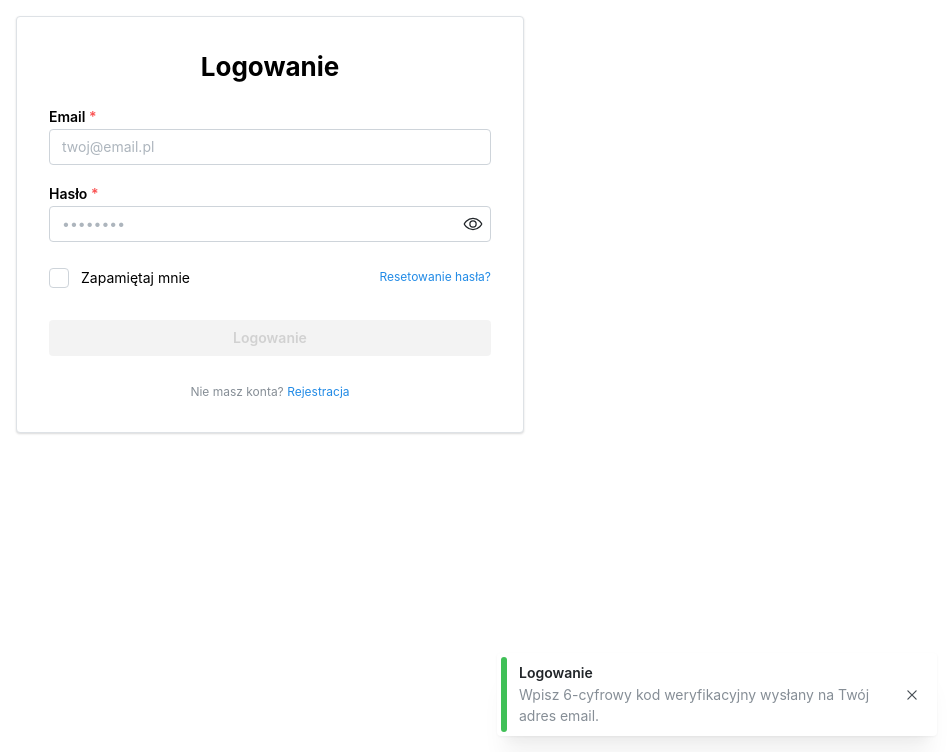
it: authentication UI › shows field-level API validation errors on login
In the field labelled "Email *": (270, 147) 49,129 -> 491,165, type "blocked@example.com"
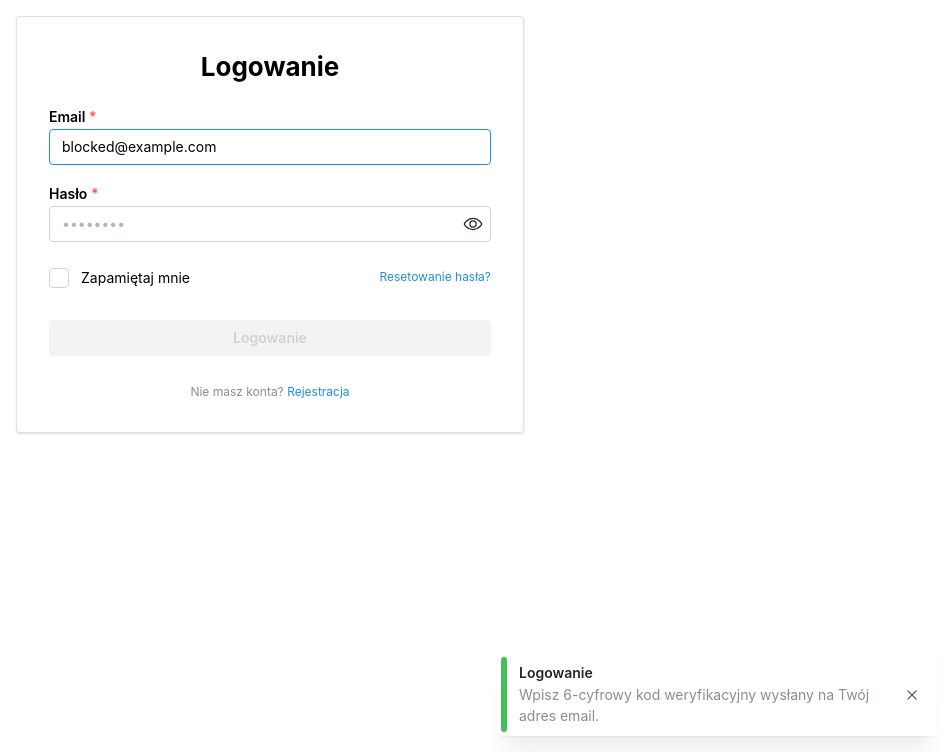
In the password field labelled "Hasło *": (270, 224) 50,207 -> 490,241, type "secret123"
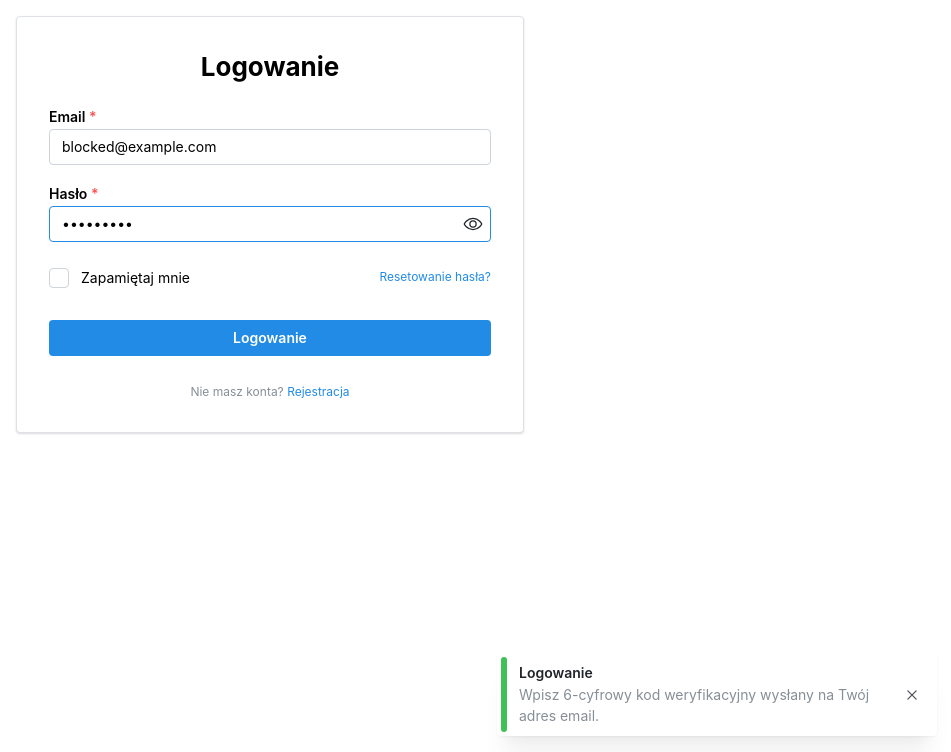
Click the button "Logowanie": (270, 338) 49,320 -> 491,356
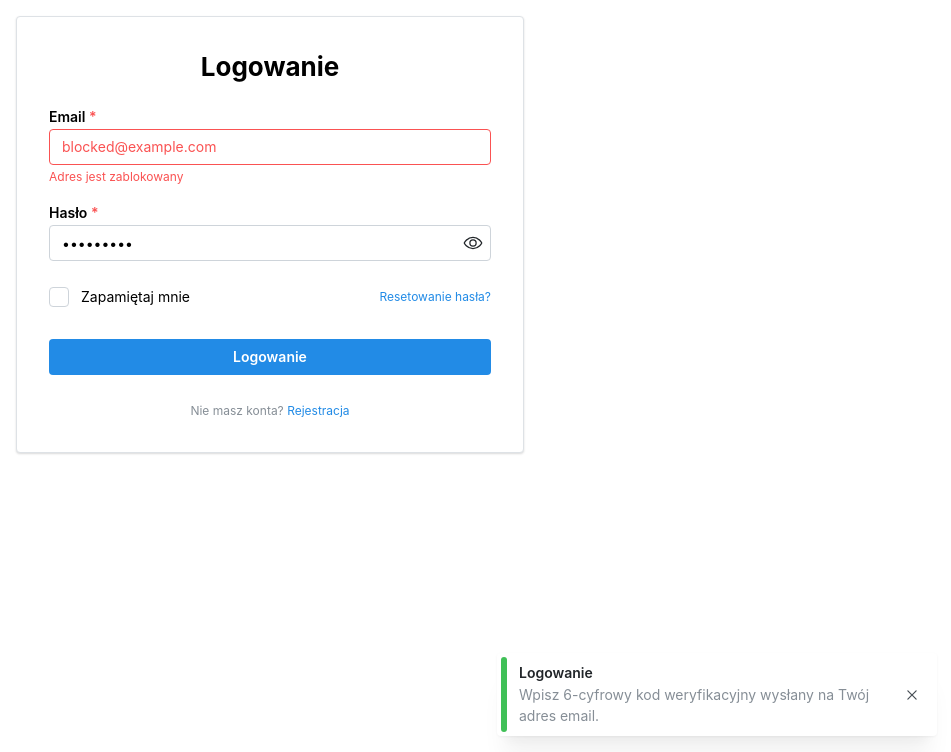
Now the text "Adres jest zablokowany" is shown, box 49,169 -> 184,184
